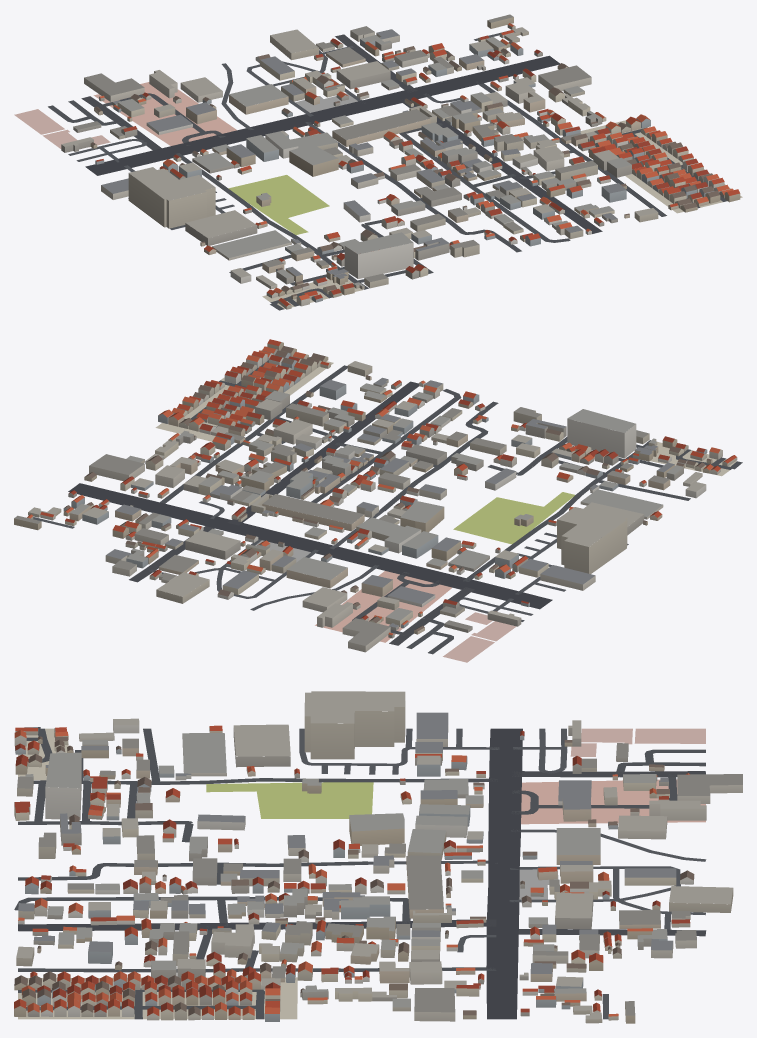
3 renders of one model, top to bottom at view 1: azimuth 30°, elevation 25°; view 2: azimuth 150°, elevation 25°; view 3: azimuth 270°, elevation 25°, orthographic. The views are drawn at different scales.
Parts seen in each view (by area): view 1: buildings_roofs, buildings_walls, roads, landuse; view 2: buildings_roofs, buildings_walls, roads, landuse; view 3: buildings_roofs, buildings_walls, roads, landuse.
Part boxes in pixels (x1=…): buildings_roofs: x1=62, y1=14, x2=739, y2=306; buildings_walls: x1=61, y1=17, x2=740, y2=309; roads: x1=48, y1=30, x2=726, y2=310; landuse: x1=14, y1=82, x2=742, y2=309; buildings_roofs: x1=14, y1=339, x2=736, y2=645; buildings_walls: x1=14, y1=342, x2=737, y2=652; roads: x1=33, y1=357, x2=742, y2=654; landuse: x1=155, y1=346, x2=736, y2=662; buildings_roofs: x1=14, y1=691, x2=742, y2=1019; buildings_walls: x1=14, y1=701, x2=742, y2=1023; roads: x1=14, y1=727, x2=706, y2=1019; landuse: x1=18, y1=728, x2=705, y2=1019.
Size of the model in its own units: 521 by 28.81 by 530.
